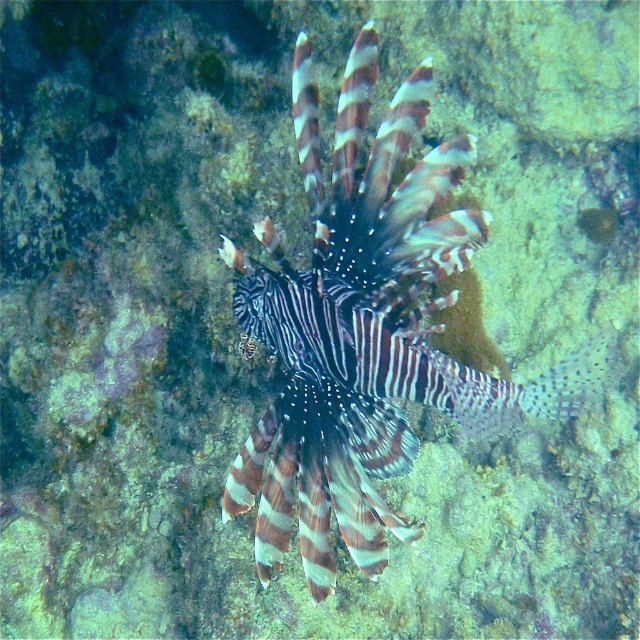Fish: (218, 20, 632, 608)
